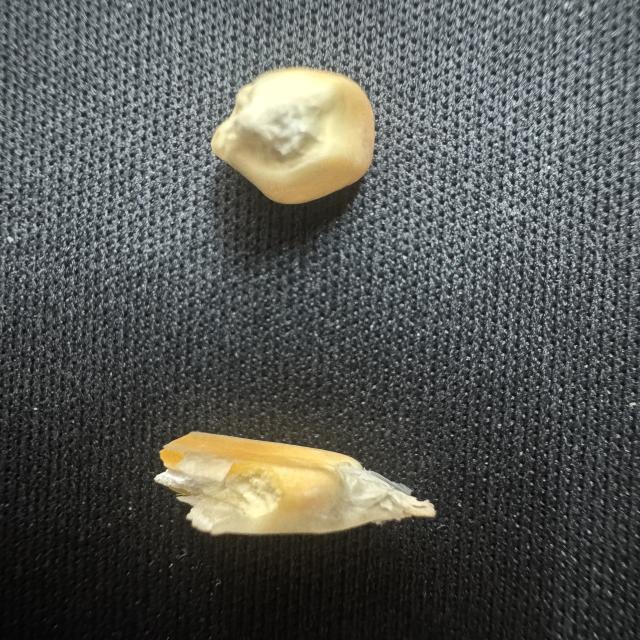Bad-Seed: (140, 419, 460, 562), (199, 54, 406, 220)
